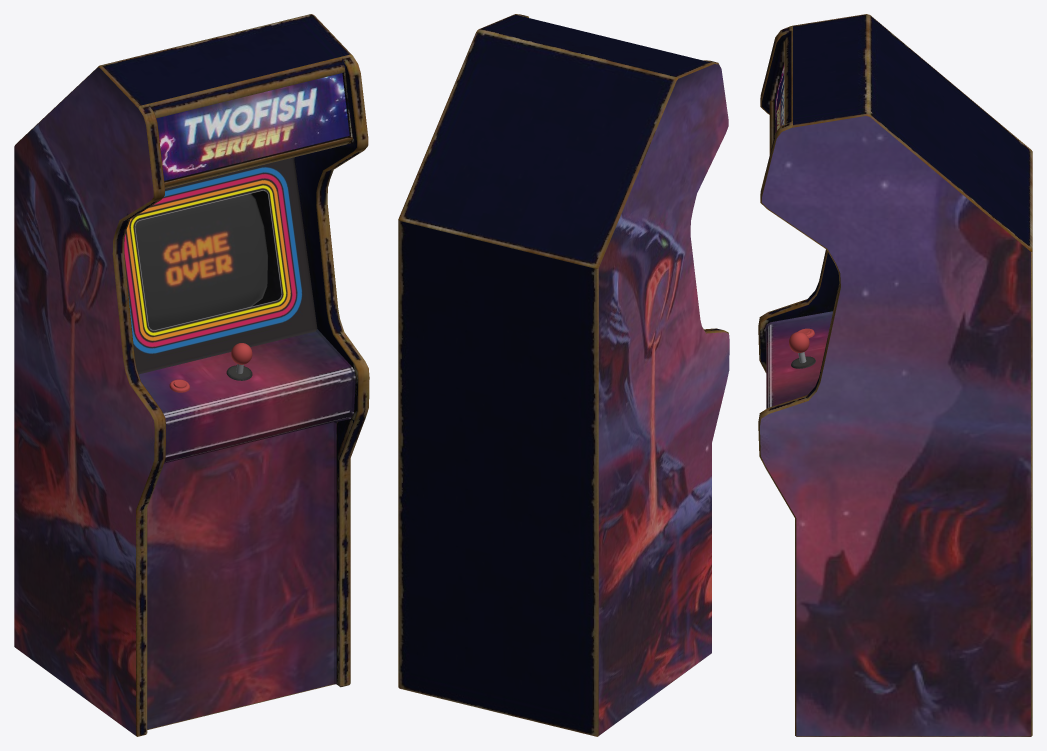
The picture shows the model from 3 angles, left to right: view 1: azimuth 30°, elevation 25°; view 2: azimuth 150°, elevation 25°; view 3: azimuth 270°, elevation 25°; orthographic projection. The views are drawn at different scales.
Visible parts, largest first — view 1: Arcade (×3); view 2: Arcade (×2); view 3: Arcade (×3).
Part boxes in pixels (x1=…): Arcade (×3): x1=14, y1=14, x2=369, y2=736; Arcade (×2): x1=398, y1=14, x2=729, y2=736; Arcade (×3): x1=758, y1=14, x2=1032, y2=736.
Size of the model in its own units: 0.6512 by 1.87 by 0.7448.
3 materials, 3 textured.
